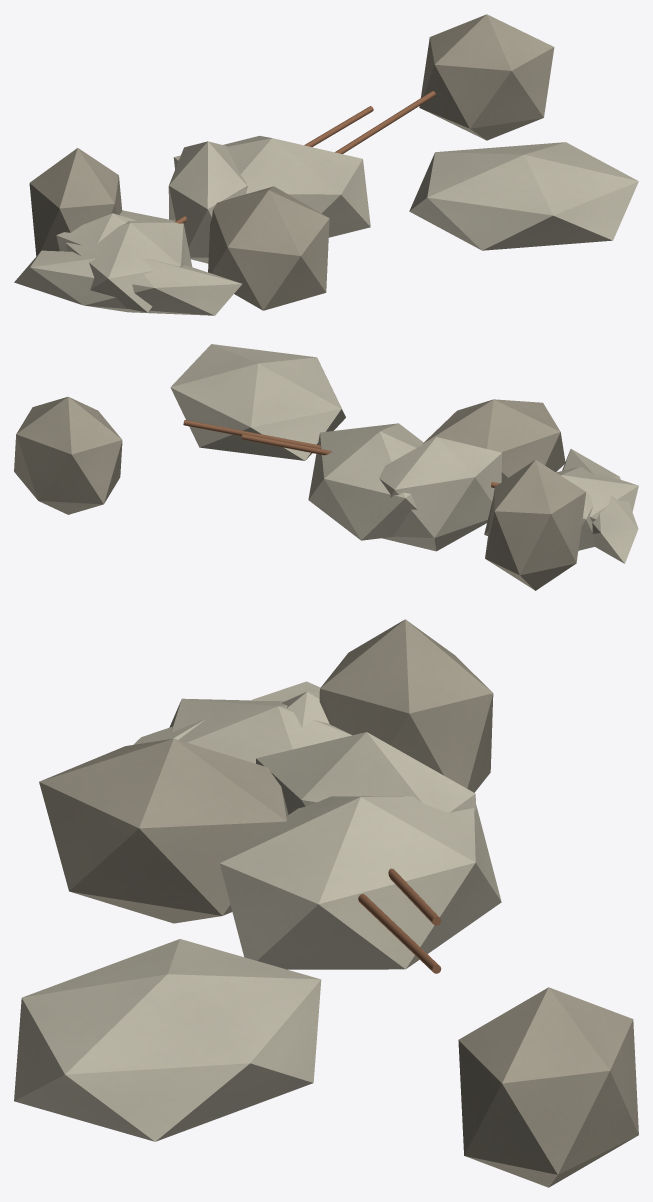
File: Rubble_Cluster_4.glb
3 views of the same model, one above another, from view 1: azimuth 30°, elevation 25°; view 2: azimuth 150°, elevation 25°; view 3: azimuth 270°, elevation 25° (orthographic). The views are drawn at different scales.
Visible parts, largest first — view 1: Rubble_Cluster_4; view 2: Rubble_Cluster_4; view 3: Rubble_Cluster_4.
Part boxes in pixels (bbox=[...]): Rubble_Cluster_4: bbox=[14, 14, 638, 315]; Rubble_Cluster_4: bbox=[14, 344, 638, 590]; Rubble_Cluster_4: bbox=[14, 619, 638, 1187].
Bounding box in the file's own units: 2.84 × 0.6472 × 1.65.
3 materials, 3 textured.
